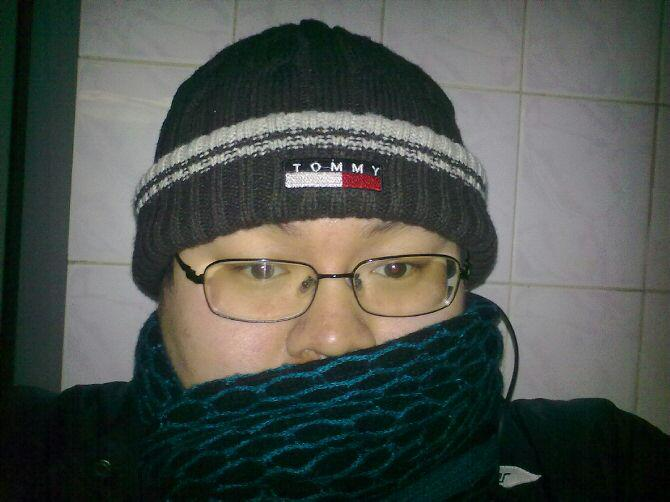WRONG: (184, 217, 448, 481)
